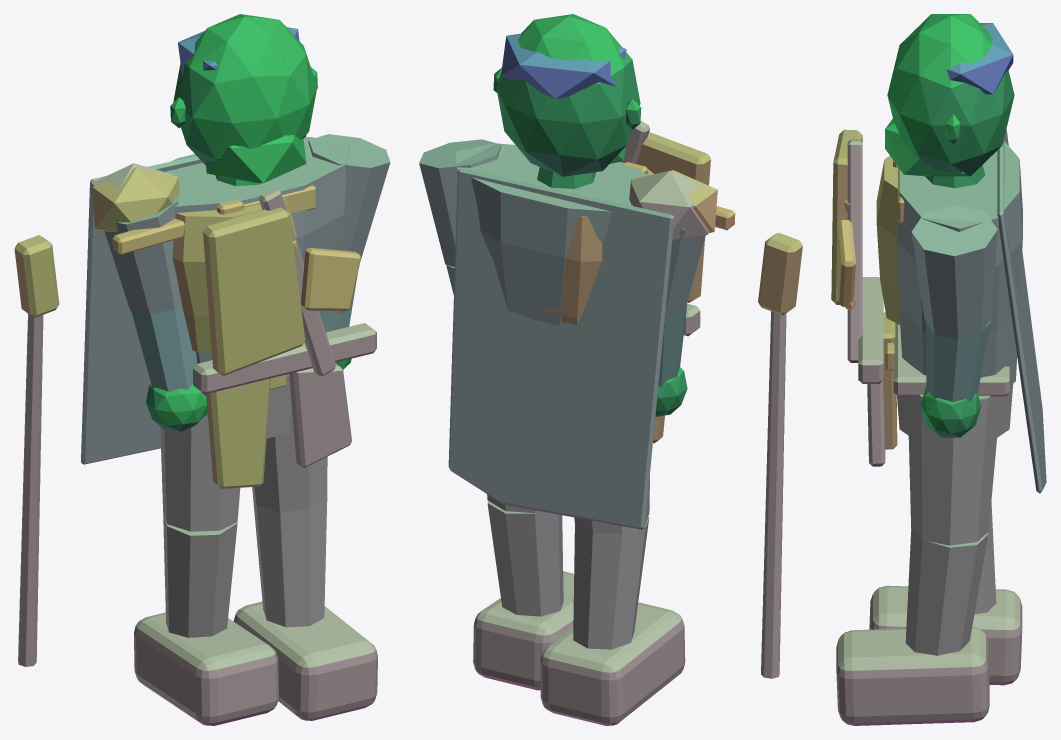
Rendered from npc_raider_contact_r_v01.glb.
The picture shows the model from 3 angles, left to right: view 1: azimuth 30°, elevation 25°; view 2: azimuth 150°, elevation 25°; view 3: azimuth 270°, elevation 25°; orthographic projection.
Visible parts, largest first — view 1: GEO_npc_raider_contact_r_v01; view 2: GEO_npc_raider_contact_r_v01; view 3: GEO_npc_raider_contact_r_v01.
Boxes of the visible parts, x1,y1,x2,y2 form: GEO_npc_raider_contact_r_v01: (14, 14, 390, 725); GEO_npc_raider_contact_r_v01: (419, 14, 802, 725); GEO_npc_raider_contact_r_v01: (831, 14, 1046, 725).
Size of the model in its own units: 1.19 by 2.07 by 0.5966.
